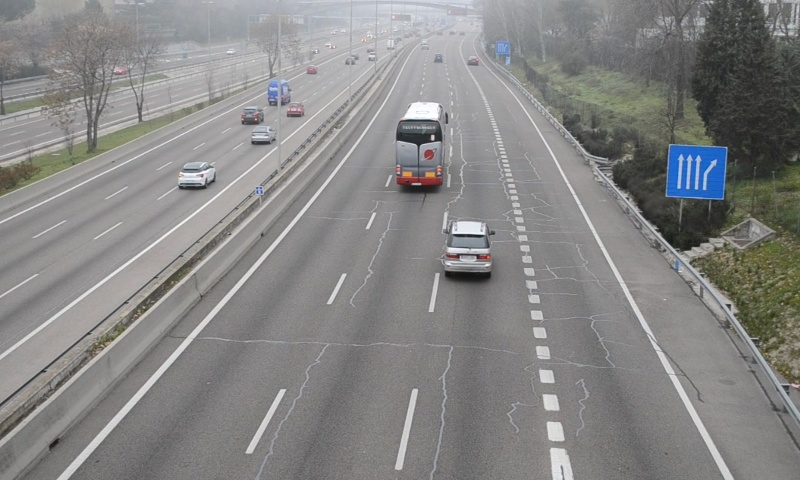bus: (396, 102, 446, 190)
car: (442, 221, 494, 276)
